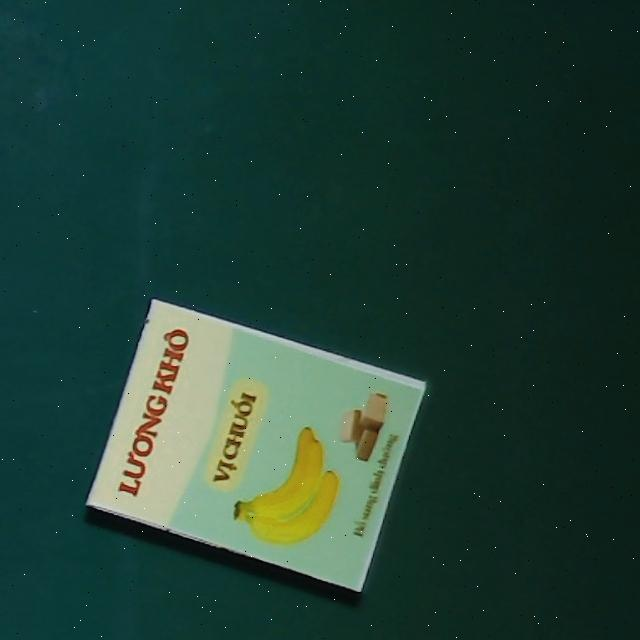chuoi: (85, 297, 425, 591)
